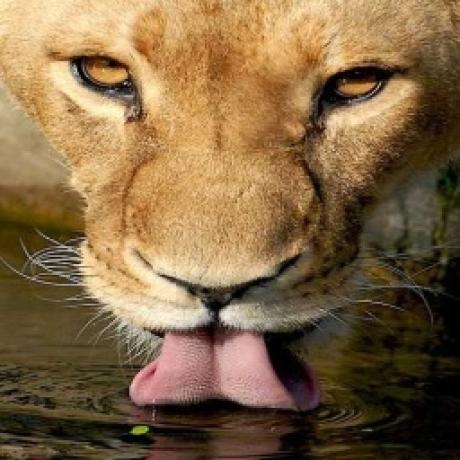Lion: (0, 0, 460, 412)
